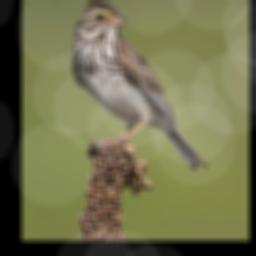Sparrow: (71, 0, 209, 168)
